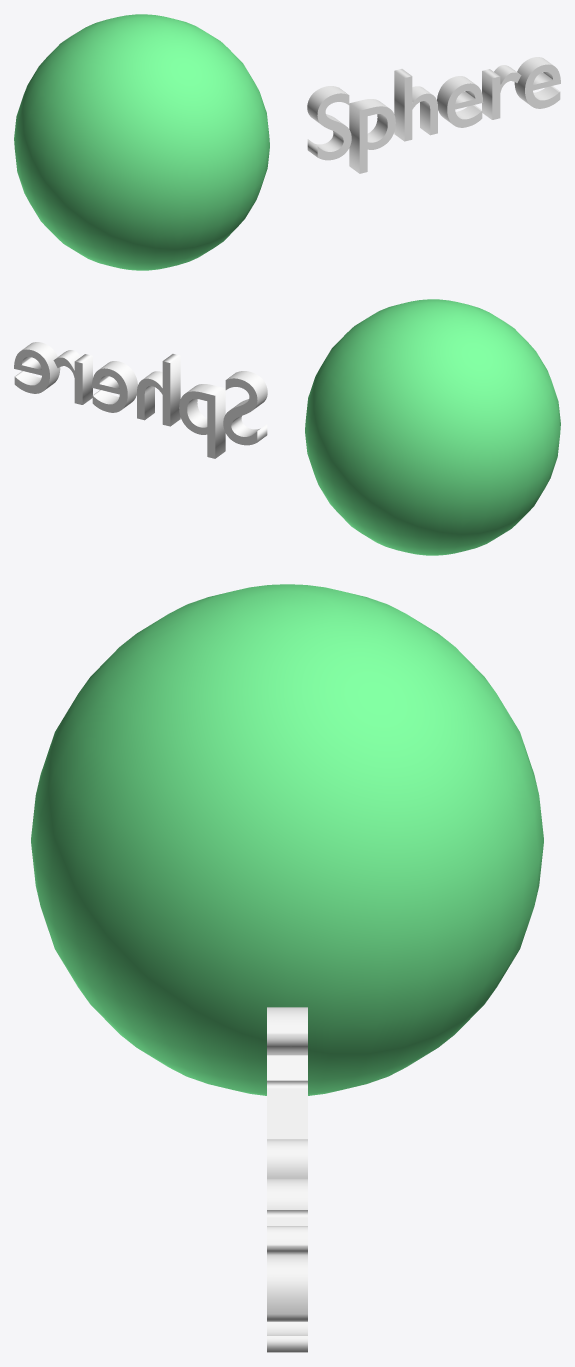
3 views of the same model, one above another, from view 1: azimuth 30°, elevation 25°; view 2: azimuth 150°, elevation 25°; view 3: azimuth 270°, elevation 25° (orthographic). The views are drawn at different scales.
Visible parts, largest first — view 1: Model_2_Sphere; view 2: Model_2_Sphere; view 3: Model_2_Sphere.
Boxes of the visible parts, bbox=[...] form: Model_2_Sphere: bbox=[14, 14, 560, 270]; Model_2_Sphere: bbox=[14, 299, 560, 555]; Model_2_Sphere: bbox=[31, 584, 543, 1352].
Size of the model in its own units: 4.72 by 2 by 2.
